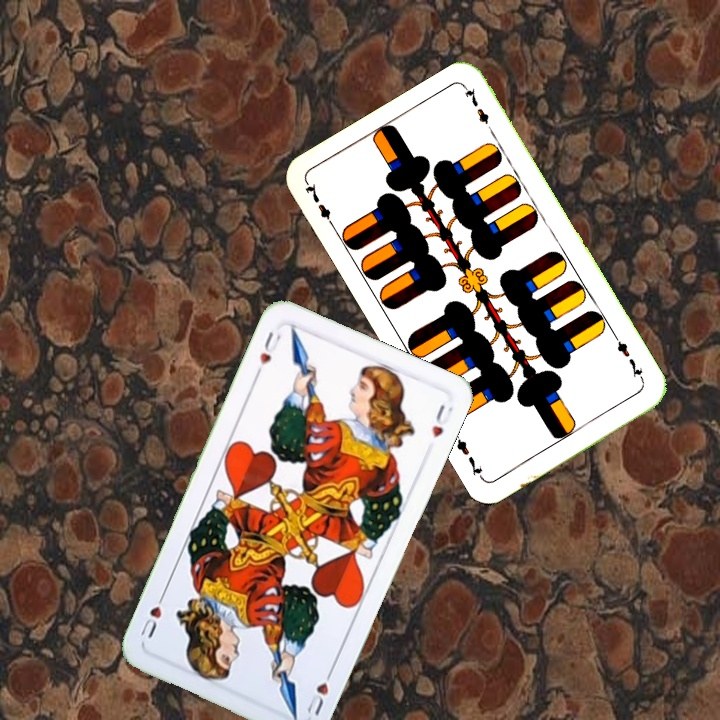E7: (301, 179, 339, 232), (610, 332, 647, 386)
HU: (303, 663, 337, 718), (251, 327, 284, 379)
